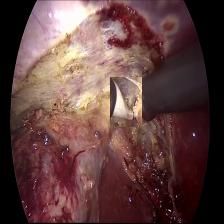Hook: (111, 78, 142, 127)
